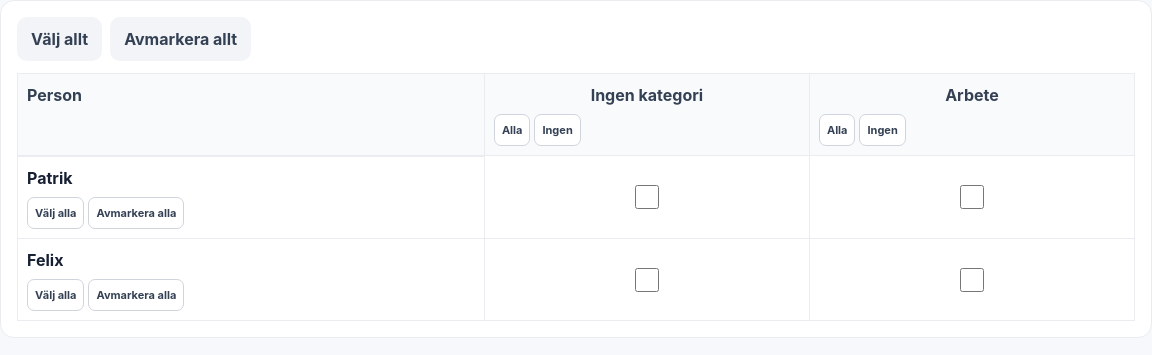
Scenario: CalendarFilterMatrix › har bulk actions per person och per kategori
What coordinates should you click on to do the following:
click the button with aria-label "Välj alla kategorier för Felix"
I would click on:
 (56, 295)
Its box is [27,279,84,311].
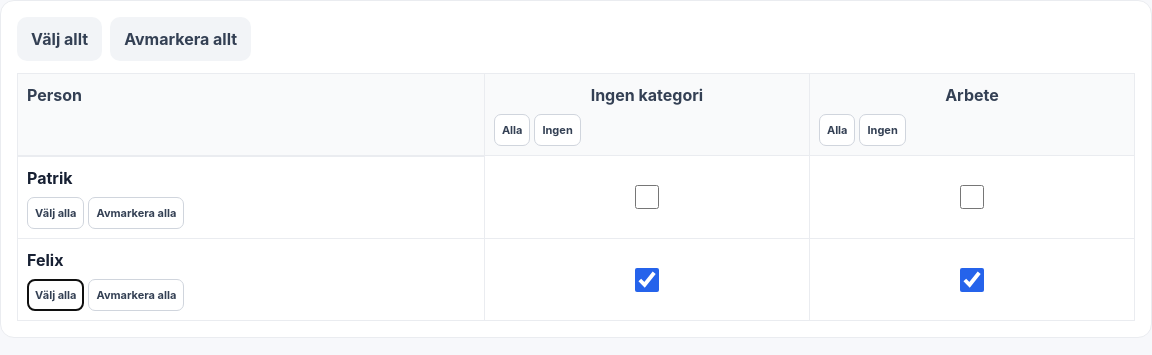
Now the checkbox named "Felix – Ingen kategori – visas" is checked, box [635,268,659,292]
Now the checkbox named "Felix – Arbete – visas" is checked, box [960,268,984,292]
What coordinates should you click on to do the following:
click the button with aria-label "Avmarkera Ingen kategori för alla personer"
I would click on:
 (558, 130)
Its box is [534,114,581,146].
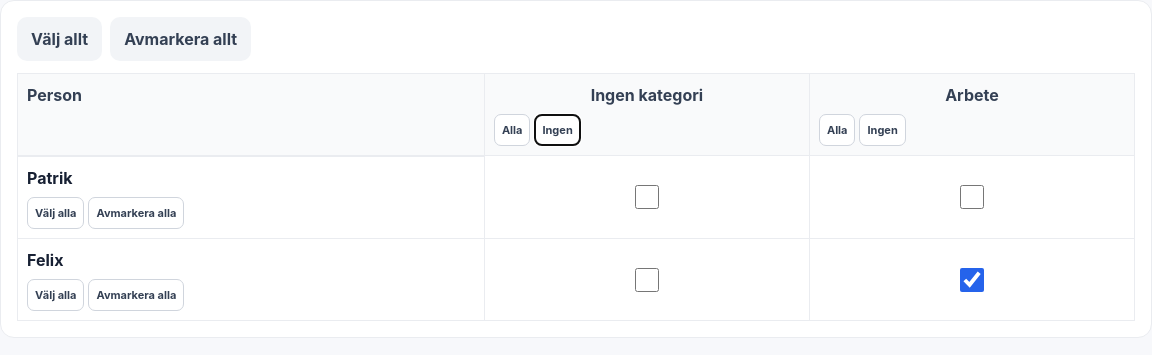
Now the checkbox named "Felix – Arbete – visas" is checked, box [960,268,984,292]
Now the checkbox named "Felix – Ingen kategori – döljs" is not checked, box [635,268,659,292]
